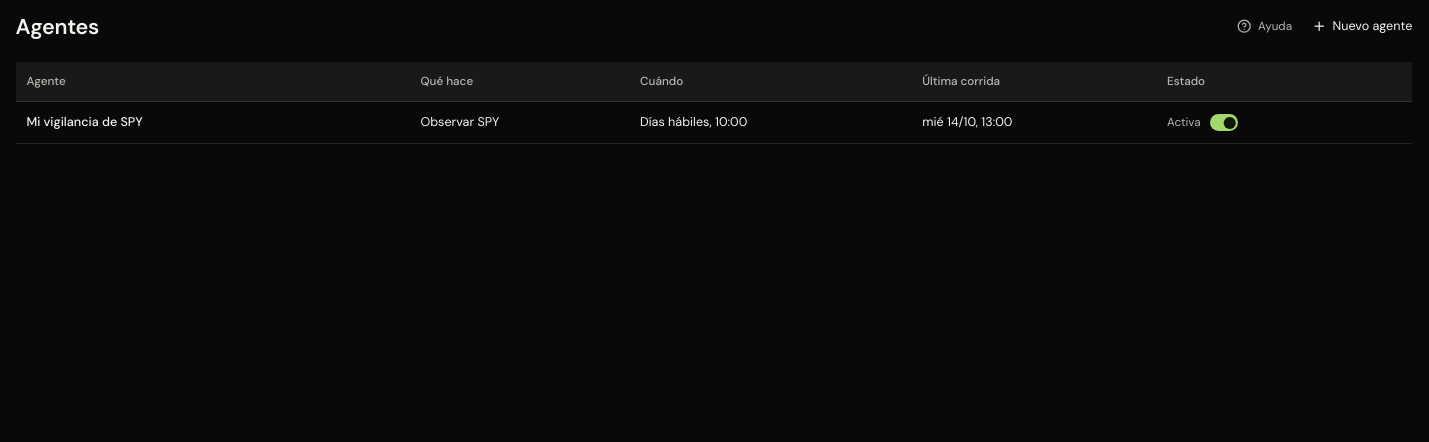
pausar conserva la tarea y escribe un pedido sin fingir que ya se aplicó
Click the button "Mi vigilancia de SPY" at (85, 122), box [26,114,143,130]
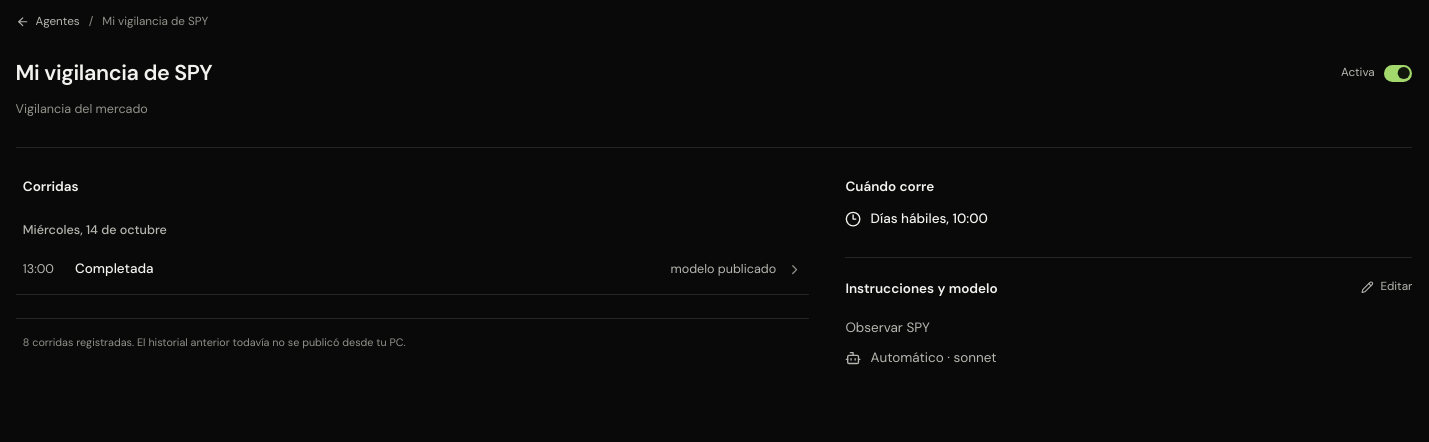
Click the switch named "Pausar tarea" at (1377, 73), box [1341,59,1412,87]
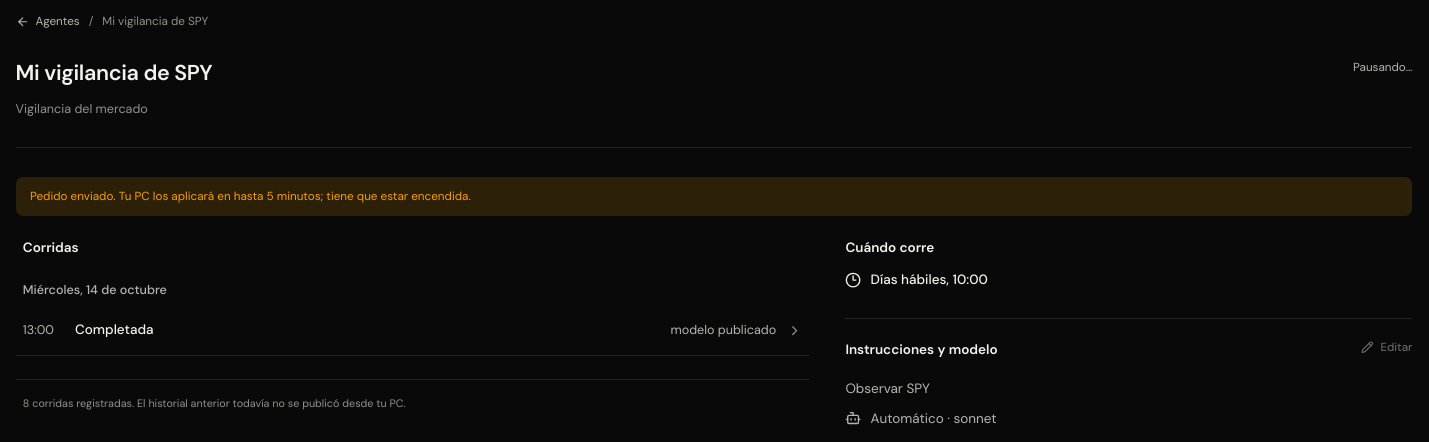
Check: the text "Pausando…" is shown, box [1353,59,1412,76]
Check: the switch is gone
